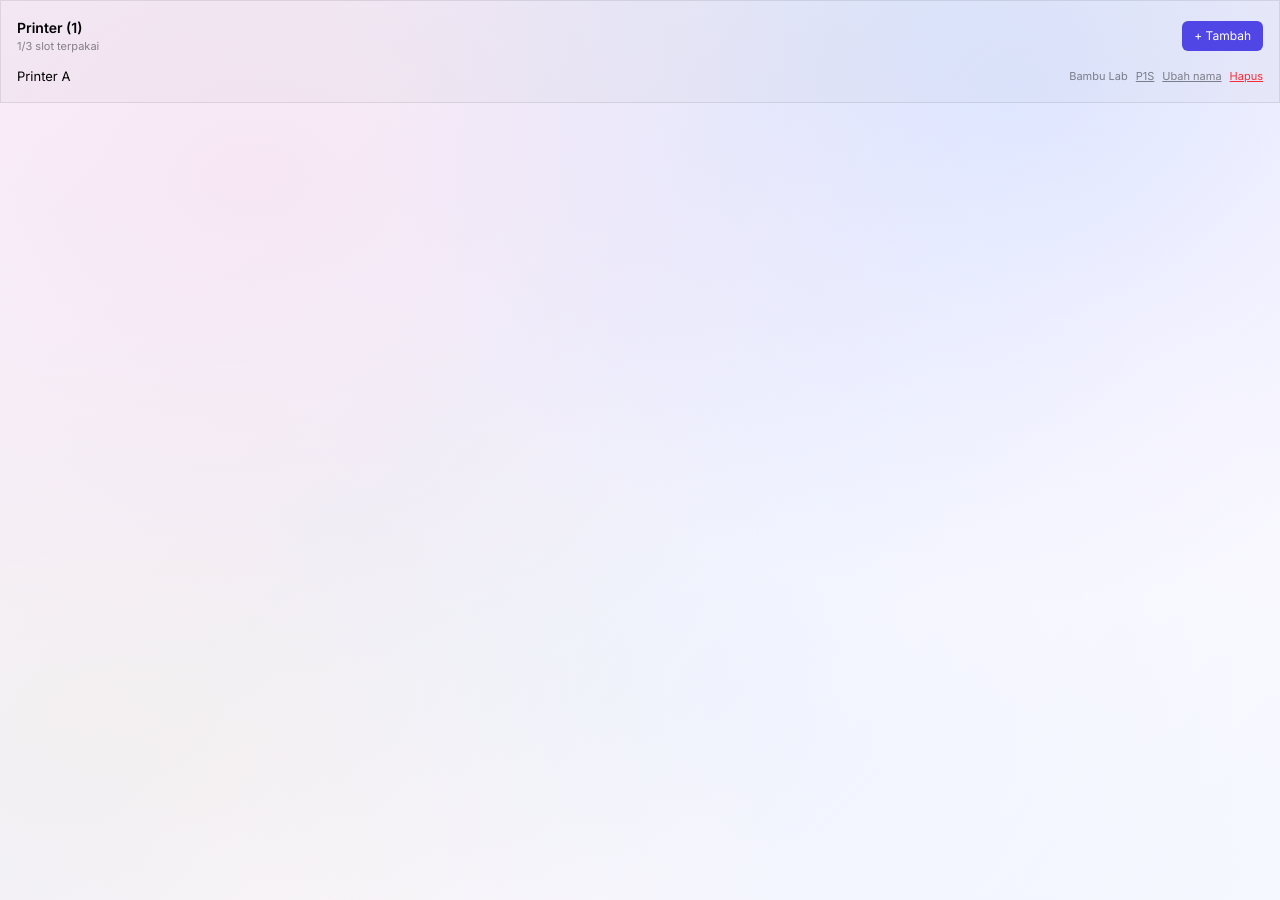
Test: DeviceList › hapus: DELETE /api/devices/{id} + buang dari list lokal kalau confirm() true
This screenshot has width=1280, height=900.
Expected: the text "Printer A" is shown, [17,68,70,84]
Click the button with aria-label "hapus printer a" at (1246,76), box [1230,68,1263,84]
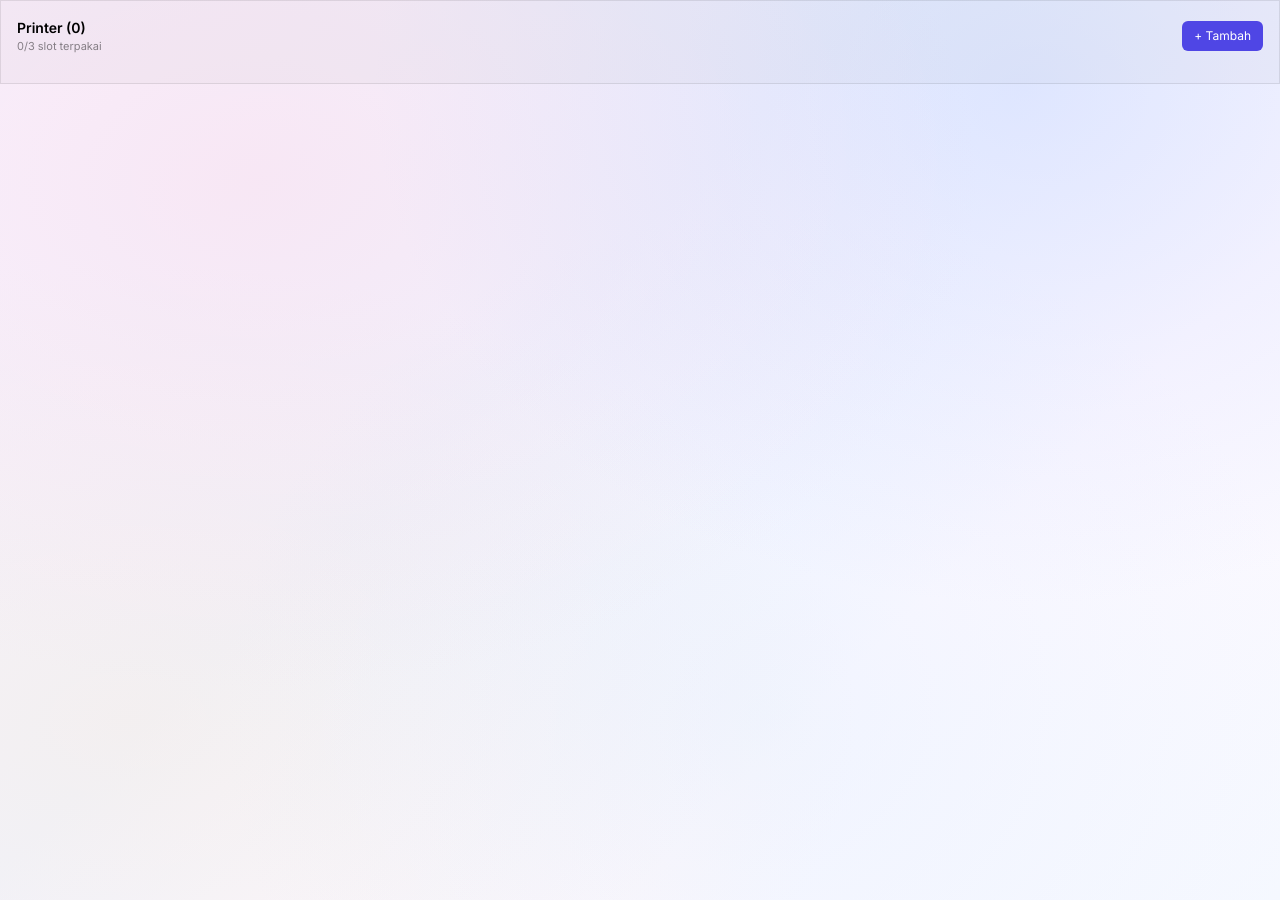
Expected: the text "Printer A" is gone
